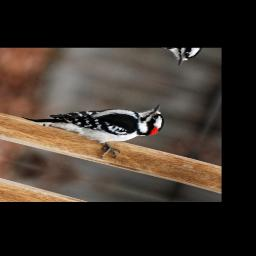Woodpecker: (13, 75, 172, 169)
